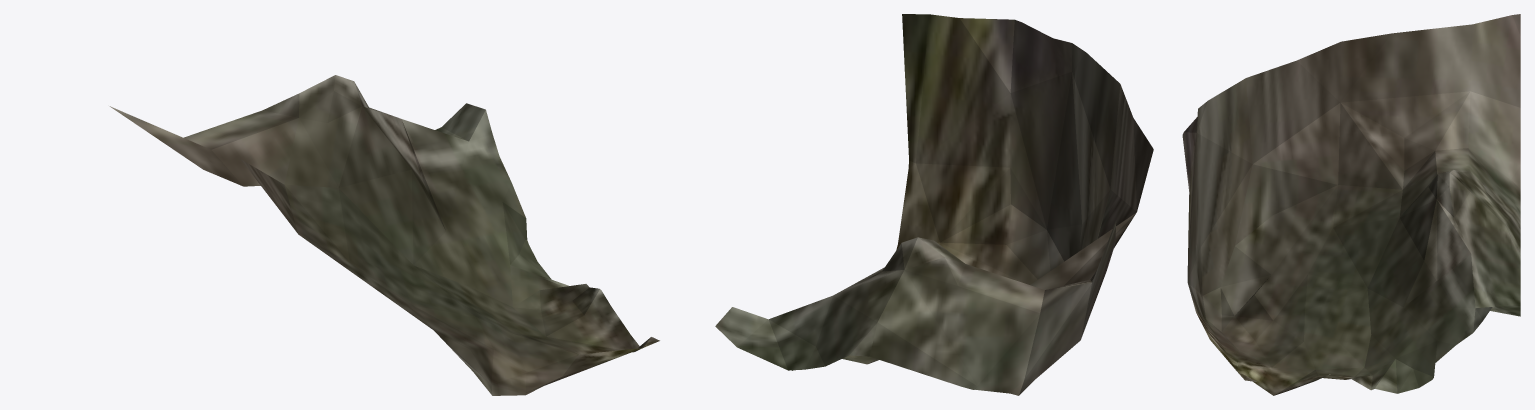
3 views of the same model, side by side, from view 1: azimuth 30°, elevation 25°; view 2: azimuth 150°, elevation 25°; view 3: azimuth 270°, elevation 25° (orthographic). The views are drawn at different scales.
Bounding box in the file's own units: 1.73 × 1.17 × 1.58.
1 material, 1 textured.
